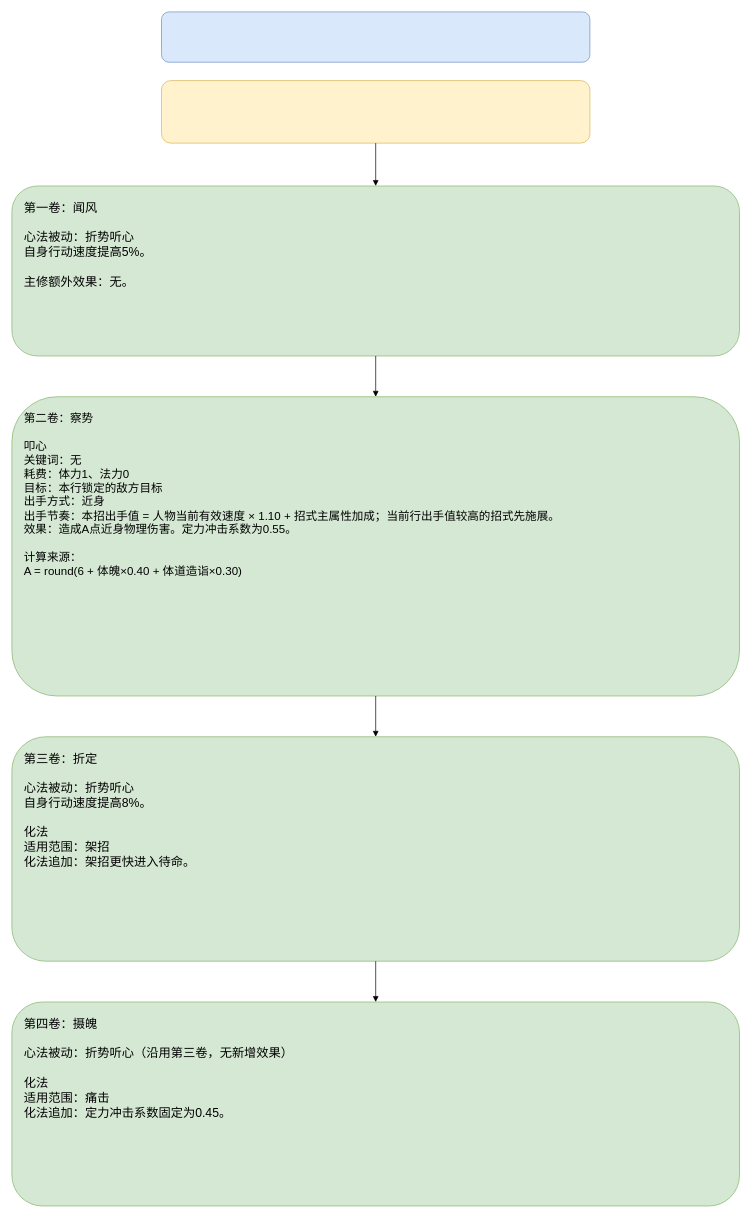
The diagram is 751 pixels wide and 1218 high, and some of its shapes have lost their labels. The centre of each missing label's shape, as x and y in pixels:
折势听心经: the point at 375,36
轻招争先，以攻势撼动定力。先手压定，再以应对护身。: the point at 375,111
